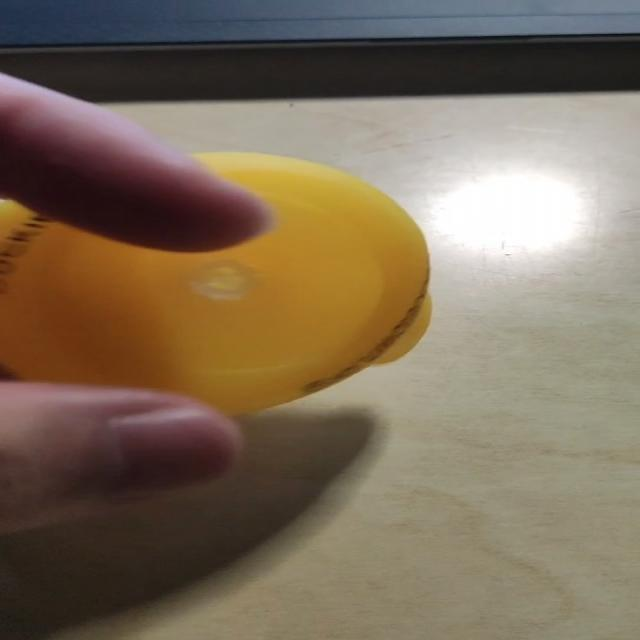rubber-duck: (0, 152, 429, 412)
